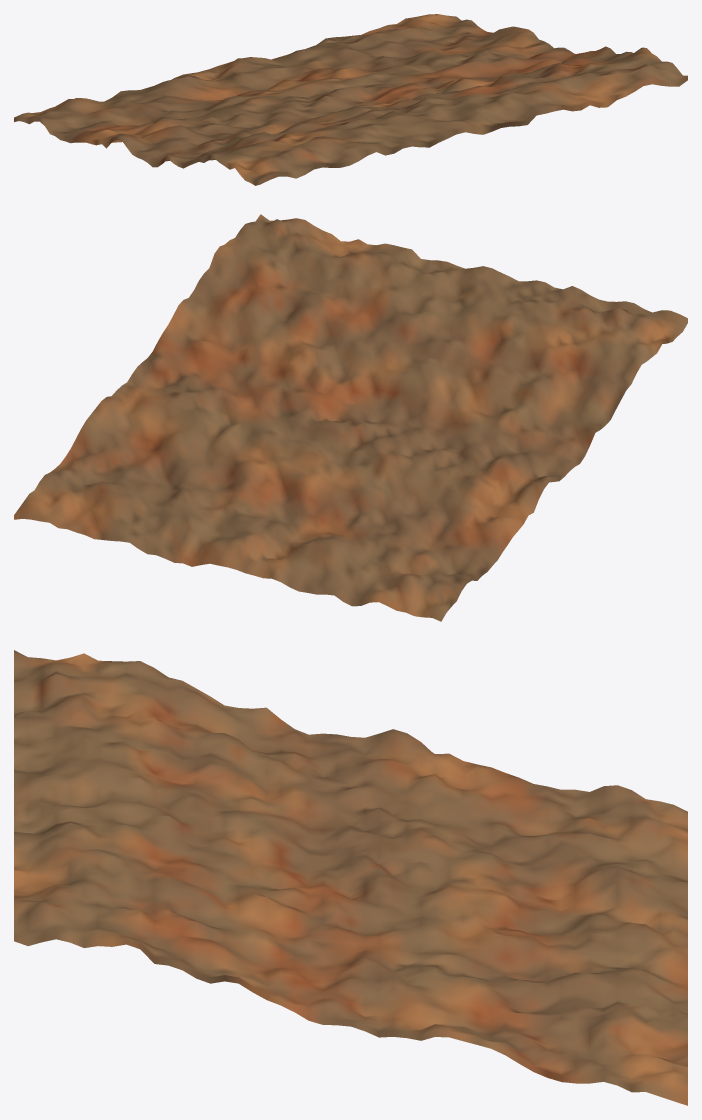
The model's file is terrain-146.glb.
3 views of the same model, one above another, from view 1: azimuth 30°, elevation 25°; view 2: azimuth 150°, elevation 25°; view 3: azimuth 270°, elevation 25° (orthographic). The views are drawn at different scales.
Visible parts, largest first — view 1: terrain-146; view 2: terrain-146; view 3: terrain-146.
Part boxes in pixels (left/top/right/bottom): terrain-146: left=14, top=14, right=687, bottom=185; terrain-146: left=14, top=214, right=687, bottom=621; terrain-146: left=14, top=650, right=687, bottom=1105.
Bounding box in the file's own units: 384 × 119 × 384.
